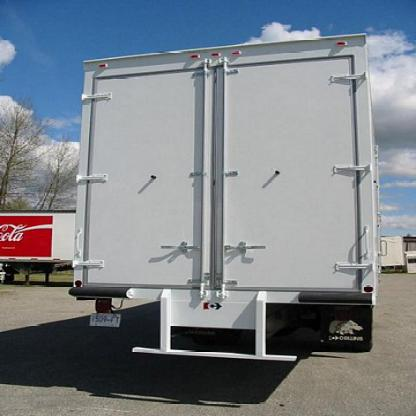normal-truck: (46, 30, 415, 367)
